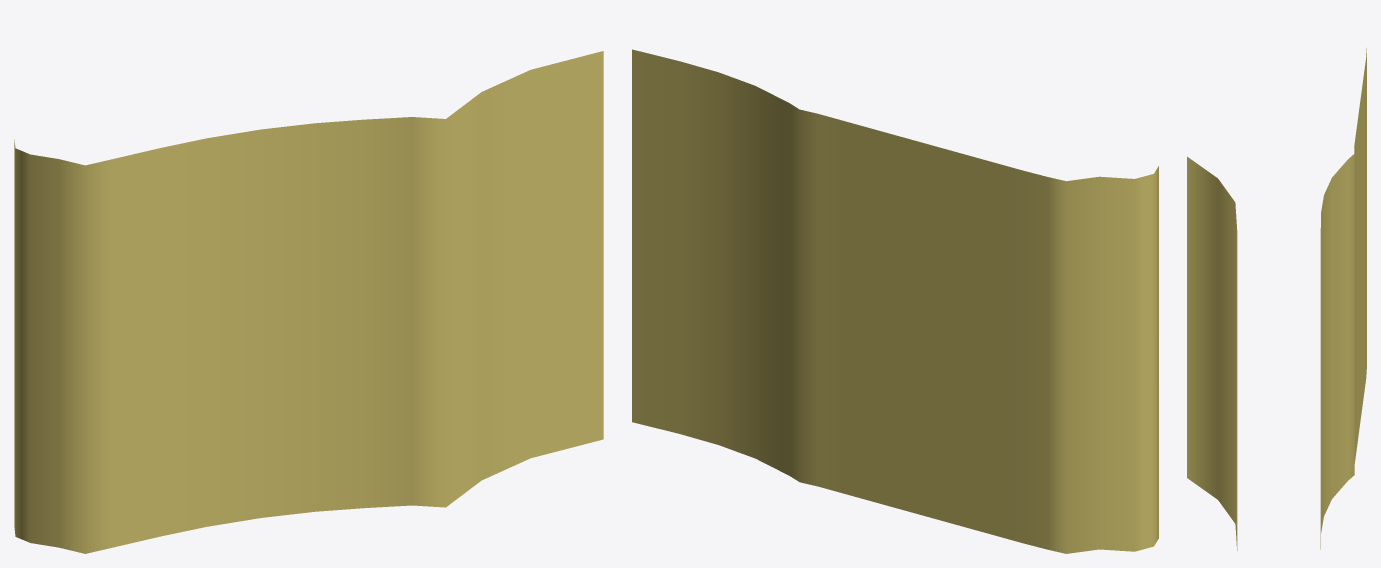
File: lateral-intermediate-substance.glb
The picture shows the model from 3 angles, left to right: view 1: azimuth 30°, elevation 25°; view 2: azimuth 150°, elevation 25°; view 3: azimuth 270°, elevation 25°; orthographic projection. The views are drawn at different scales.
Parts seen in each view (by area): view 1: Lateral intermediate substance; view 2: Lateral intermediate substance; view 3: Lateral intermediate substance.
Part boxes in pixels (x1,y1,x2,y2): Lateral intermediate substance: [14, 51, 603, 553]; Lateral intermediate substance: [632, 49, 1158, 553]; Lateral intermediate substance: [1187, 48, 1366, 550].
Size of the model in its own units: 0.00728 by 0.005 by 0.00253.
